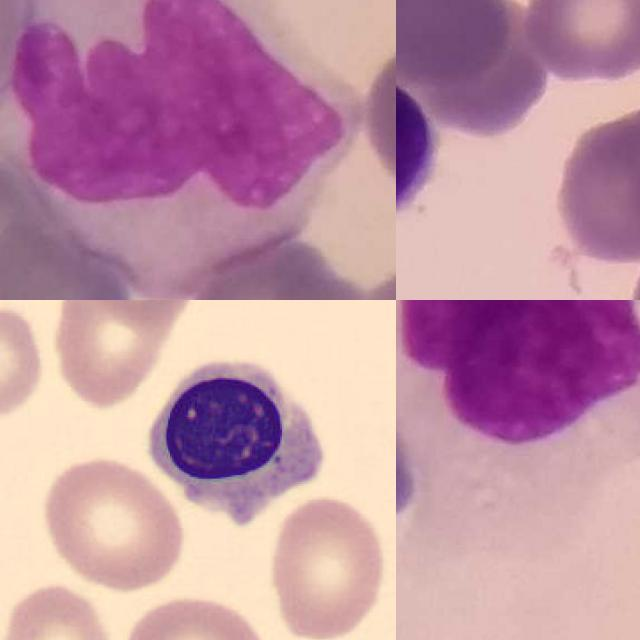Lymphocyte: (135, 348, 337, 532), (396, 62, 438, 227)
Monocyte: (0, 0, 365, 299), (396, 300, 640, 479)
RBC: (37, 452, 190, 595), (264, 494, 388, 640), (115, 591, 277, 640), (0, 580, 115, 640), (0, 302, 47, 422)
